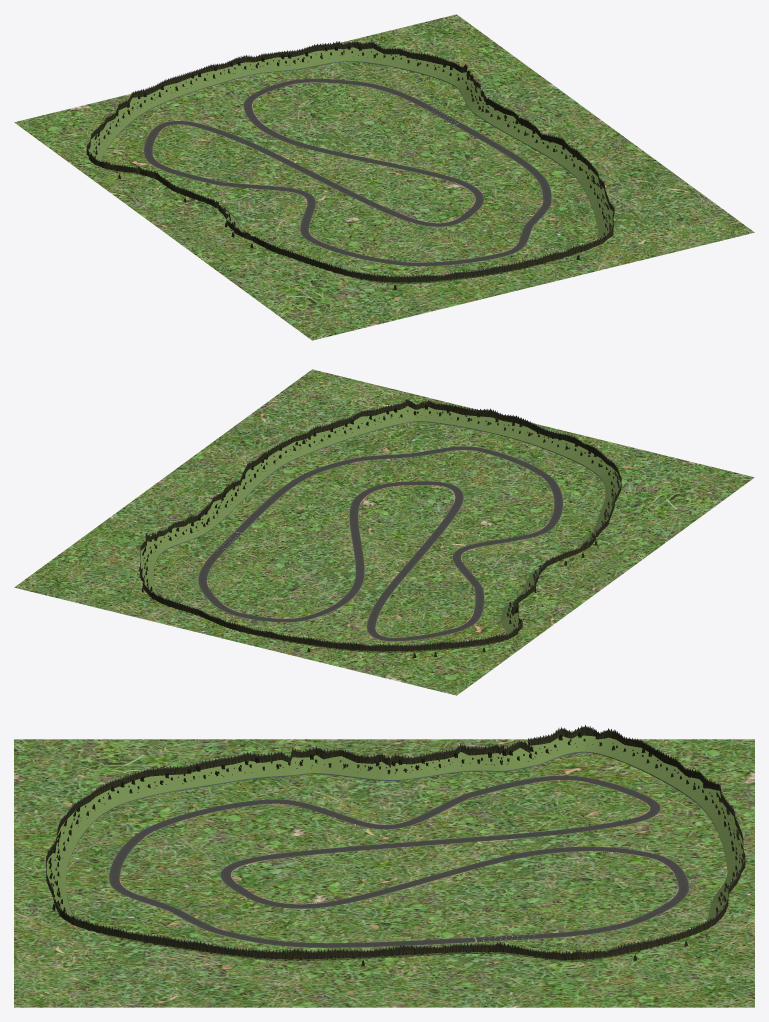
3 renders of one model, top to bottom at view 1: azimuth 30°, elevation 25°; view 2: azimuth 150°, elevation 25°; view 3: azimuth 270°, elevation 25°, orthographic. The views are drawn at different scales.
Parts seen in each view (by area): view 1: Plane, RaceTrack_Wall_00, RaceTrack_Main_00, RaceTrack_Trees_00; view 2: Plane, RaceTrack_Wall_00, RaceTrack_Main_00, RaceTrack_Trees_00; view 3: Plane, RaceTrack_Wall_00, RaceTrack_Main_00, RaceTrack_Trees_00, RaceTrack_Curbs_00.
Part boxes in pixels (x1,y1,x2,y2): Plane: (14, 14, 754, 340); RaceTrack_Wall_00: (86, 41, 614, 283); RaceTrack_Main_00: (143, 78, 551, 266); RaceTrack_Trees_00: (90, 45, 611, 290); Plane: (14, 369, 754, 695); RaceTrack_Wall_00: (140, 399, 621, 652); RaceTrack_Main_00: (198, 446, 563, 641); RaceTrack_Trees_00: (139, 405, 619, 657); Plane: (14, 739, 754, 1007); RaceTrack_Wall_00: (46, 725, 745, 961); RaceTrack_Main_00: (108, 775, 689, 947); RaceTrack_Trees_00: (48, 732, 744, 966); RaceTrack_Curbs_00: (119, 780, 678, 931).
Bounding box in the file's own units: 900 × 36.86 × 1050.
